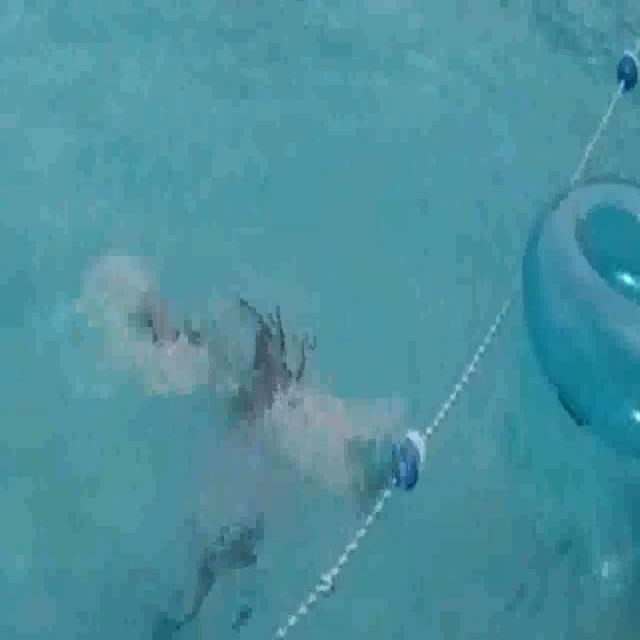drowning: (117, 247, 401, 521)
